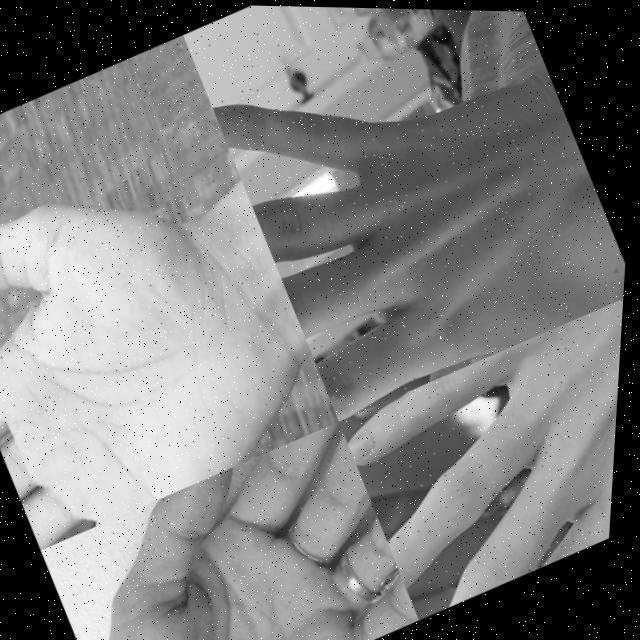no-gloves: (193, 4, 640, 423), (0, 115, 358, 554), (334, 284, 628, 622), (43, 413, 436, 640)
